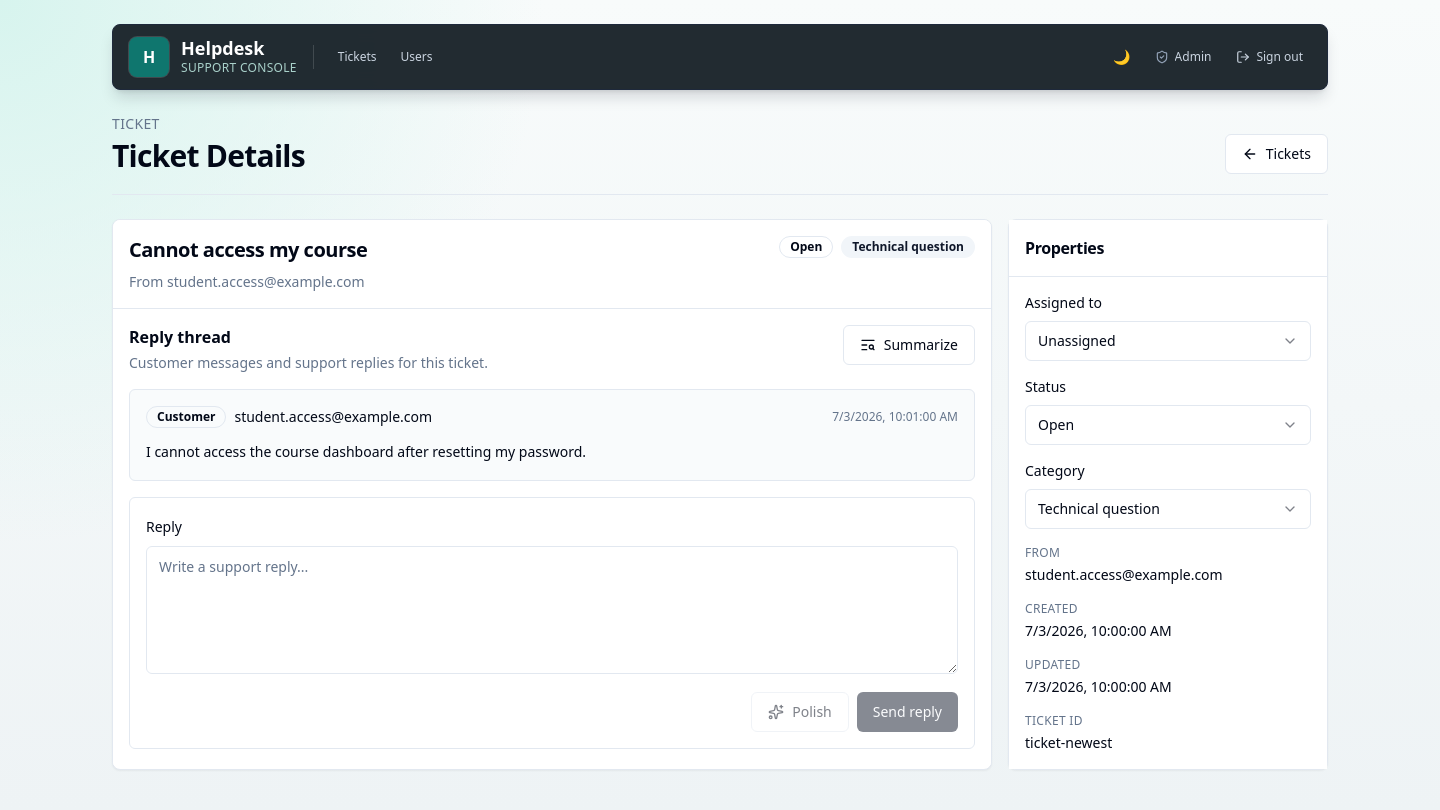
Test case: Tickets UI › ticket details can polish a support reply before sending
Expected: the heading "Ticket Details" is shown, [112,138,305,174]
Type "fixed it try again" into the text box labelled "Reply" at (552, 610), box [146,546,958,674]
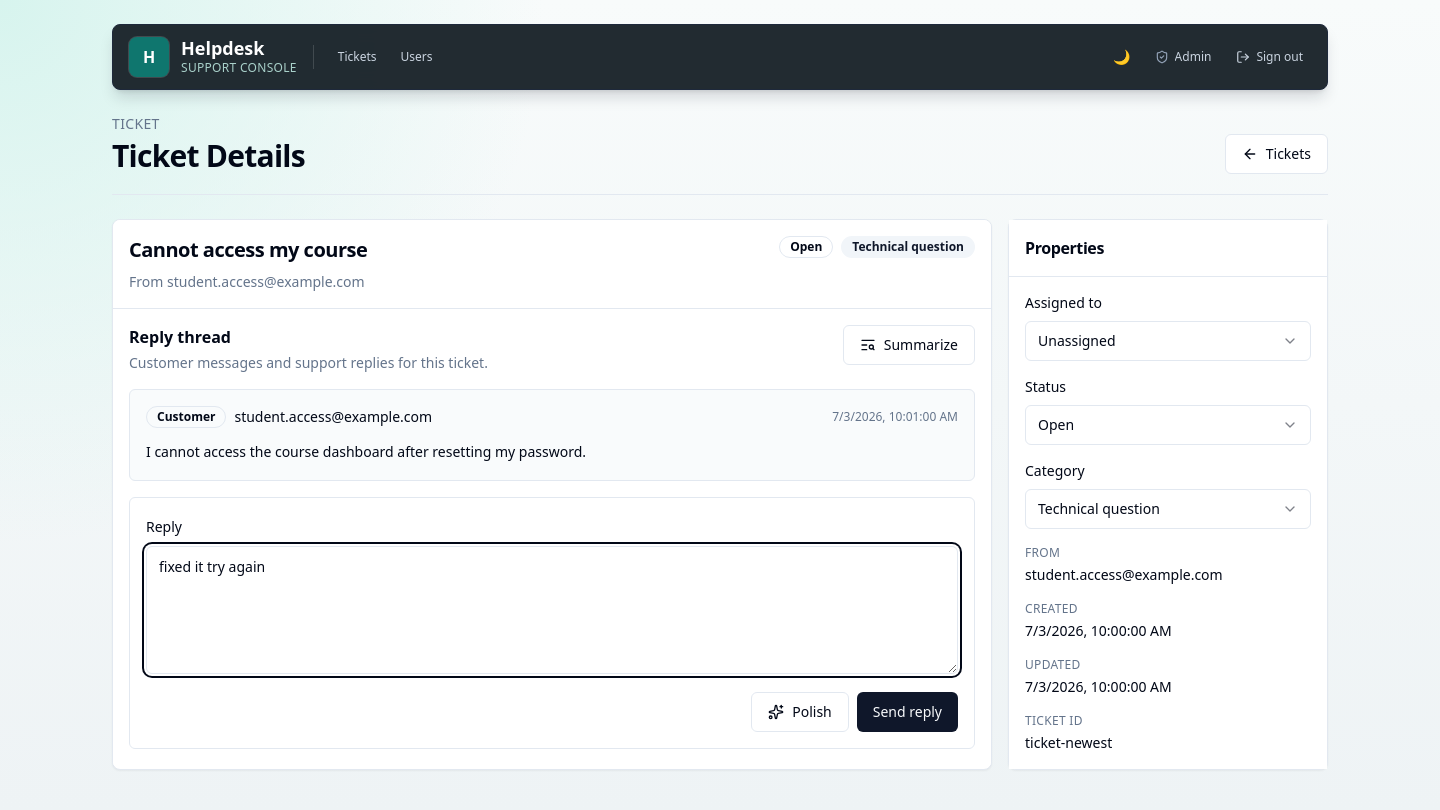
Click the button "Polish" at (800, 712), box [751,692,849,732]
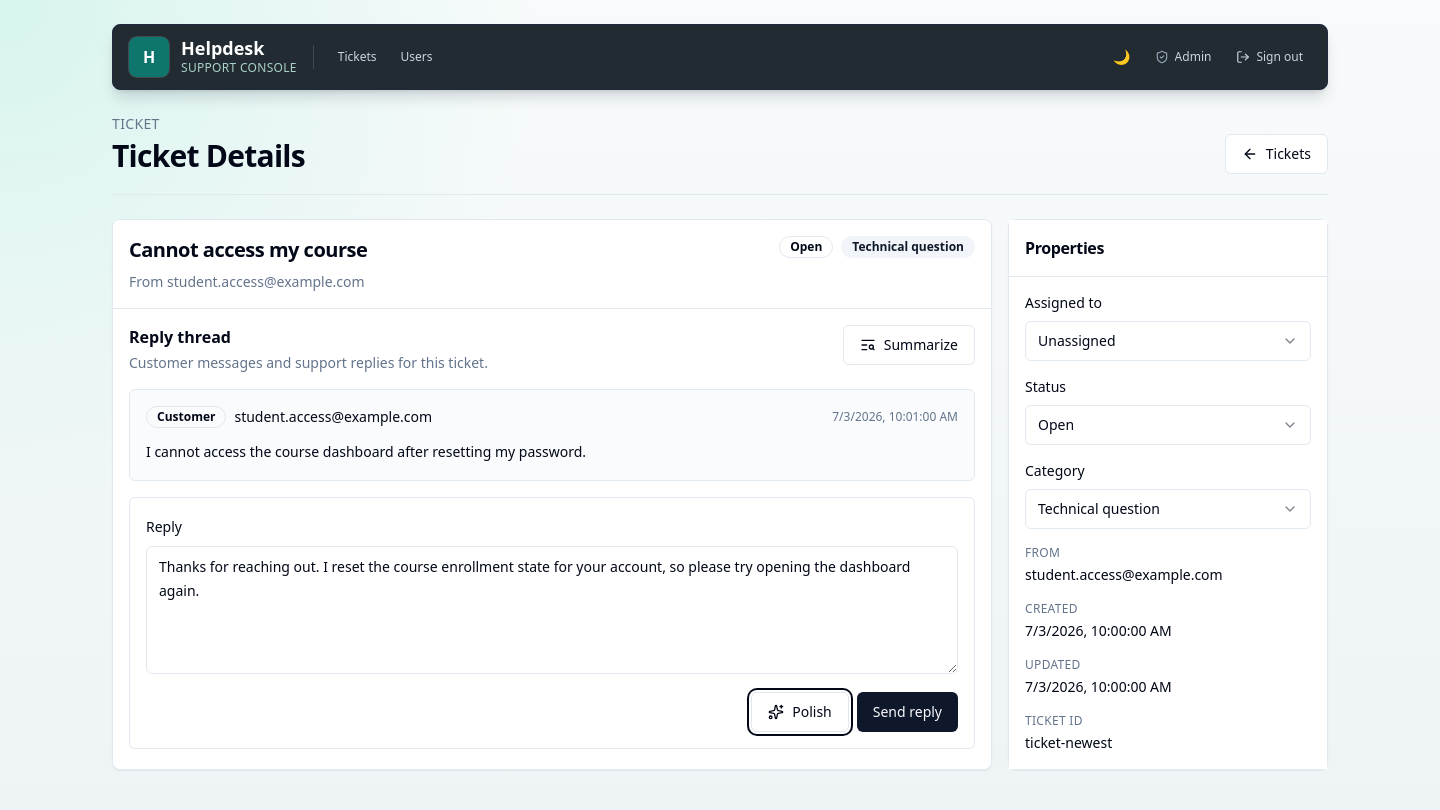
Expected: the text box labelled "Reply" holds "Thanks for reaching out. I reset the course enrollment state for your account, so please try opening the dashboard again.", [146,546,958,674]
